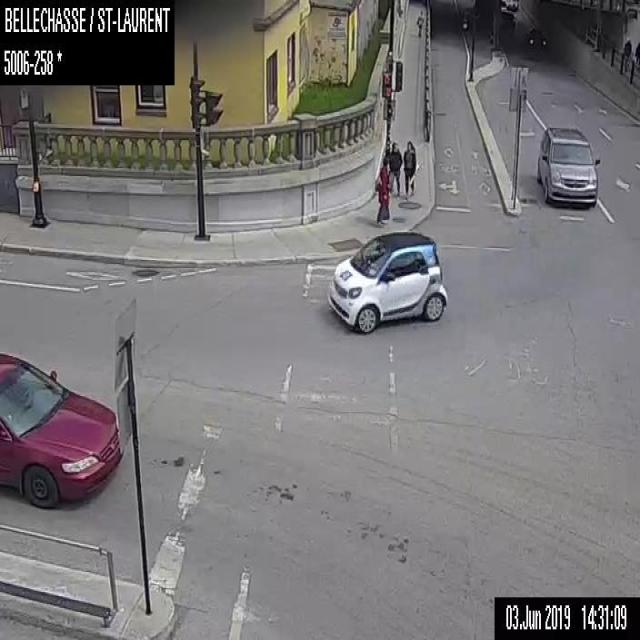pedestrian: (373, 156, 390, 224), (388, 140, 402, 195), (402, 139, 415, 196), (416, 8, 424, 36), (623, 37, 631, 63), (634, 39, 639, 64)
vehicle: (0, 352, 124, 509), (327, 230, 447, 333), (537, 127, 599, 207), (526, 28, 546, 51)
